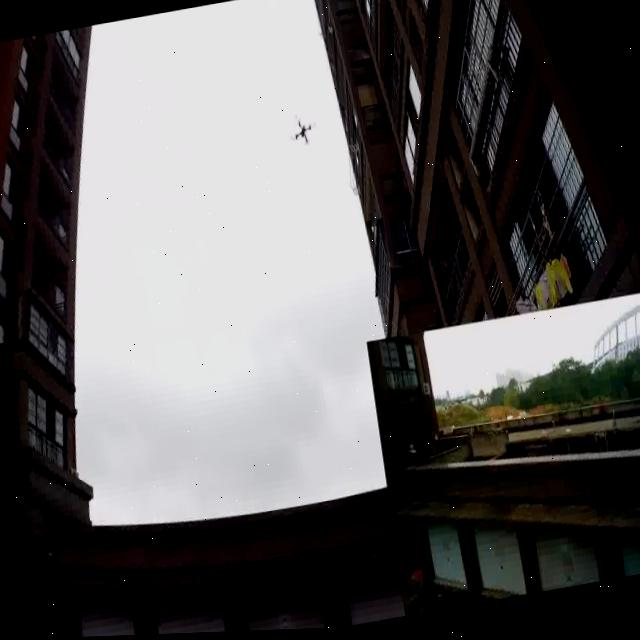drone: (288, 117, 316, 151)
